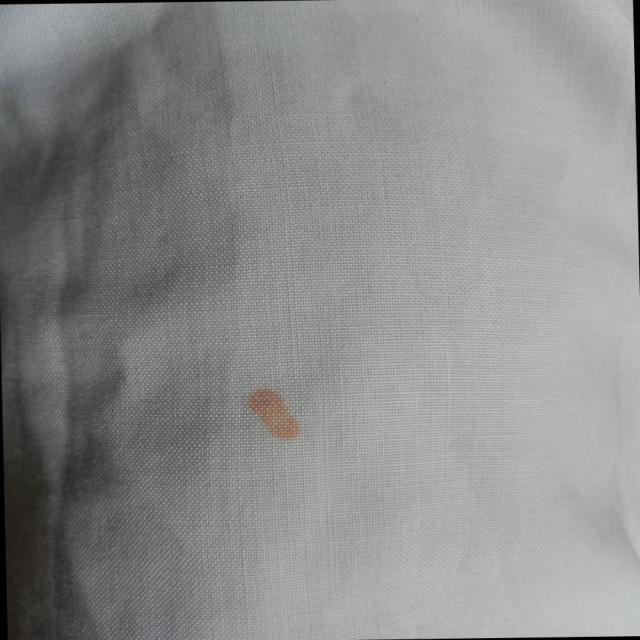stain: (234, 381, 315, 449)
